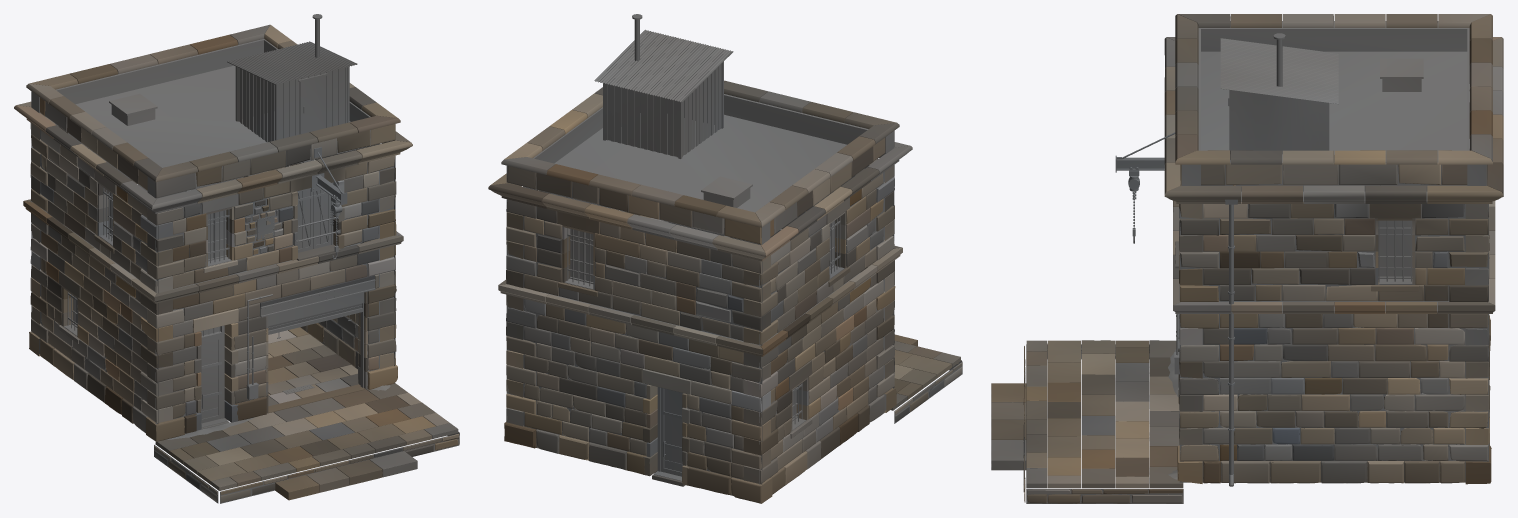
Rendered from Salvage_LOD0.glb.
3 renders of one model, left to right at view 1: azimuth 30°, elevation 25°; view 2: azimuth 150°, elevation 25°; view 3: azimuth 270°, elevation 25°, orthographic. The views are drawn at different scales.
Visible parts, largest first — view 1: Salvage_Masonry_LOD0, Salvage_Trim_LOD0, Salvage_Porch_LOD0, Salvage_Metal_LOD0, Salvage_Roof_LOD0, Salvage_InteriorFloor_LOD0, Salvage_InteriorMasonry_LOD0, Salvage_Glass_LOD0, Salvage_Sand_LOD0; view 2: Salvage_Masonry_LOD0, Salvage_Trim_LOD0, Salvage_Roof_LOD0, Salvage_Metal_LOD0, Salvage_Porch_LOD0, Salvage_Glass_LOD0; view 3: Salvage_Masonry_LOD0, Salvage_Trim_LOD0, Salvage_Porch_LOD0, Salvage_Roof_LOD0, Salvage_Metal_LOD0, Salvage_Glass_LOD0.
Boxes of the visible parts, x1,y1,x2,y2 form: Salvage_Masonry_LOD0: (29, 39, 397, 441); Salvage_Trim_LOD0: (14, 24, 412, 430); Salvage_Porch_LOD0: (154, 383, 459, 503); Salvage_Metal_LOD0: (67, 14, 375, 427); Salvage_Roof_LOD0: (75, 41, 357, 167); Salvage_InteriorFloor_LOD0: (225, 327, 358, 419); Salvage_InteriorMasonry_LOD0: (300, 313, 358, 383); Salvage_Glass_LOD0: (73, 162, 302, 335); Salvage_Sand_LOD0: (64, 234, 390, 439); Salvage_Masonry_LOD0: (504, 94, 896, 503); Salvage_Trim_LOD0: (488, 80, 912, 485); Salvage_Roof_LOD0: (554, 29, 846, 212); Salvage_Metal_LOD0: (550, 14, 840, 480); Salvage_Porch_LOD0: (652, 334, 962, 486); Salvage_Glass_LOD0: (552, 192, 833, 416); Salvage_Masonry_LOD0: (1177, 21, 1491, 484); Salvage_Trim_LOD0: (1164, 14, 1503, 387); Salvage_Porch_LOD0: (991, 340, 1183, 503); Salvage_Roof_LOD0: (1201, 38, 1467, 154); Salvage_Metal_LOD0: (1115, 33, 1414, 486); Salvage_Glass_LOD0: (1378, 220, 1412, 276).
Size of the model in its own units: 8.46 by 11.24 by 11.73.
